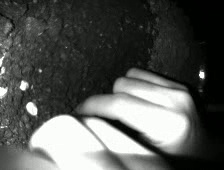corn: (25, 102, 38, 116)
